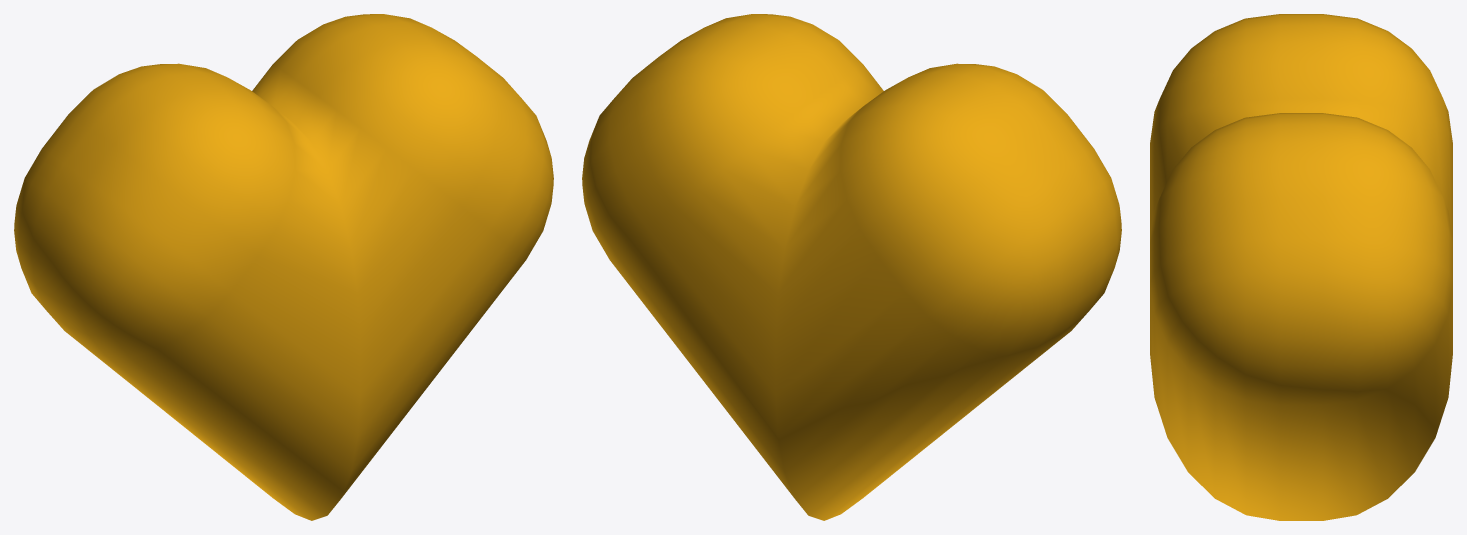
Rendered from heartItem.glb.
3 renders of one model, left to right at view 1: azimuth 30°, elevation 25°; view 2: azimuth 150°, elevation 25°; view 3: azimuth 270°, elevation 25°, orthographic.
Visible parts, largest first — view 1: Cube; view 2: Cube; view 3: Cube.
Part boxes in pixels (box(x1,y1,x2,y2)): Cube: box(14, 14, 553, 520); Cube: box(582, 14, 1121, 520); Cube: box(1150, 14, 1452, 520).
Size of the model in its own units: 3.67 by 3.25 by 2.
